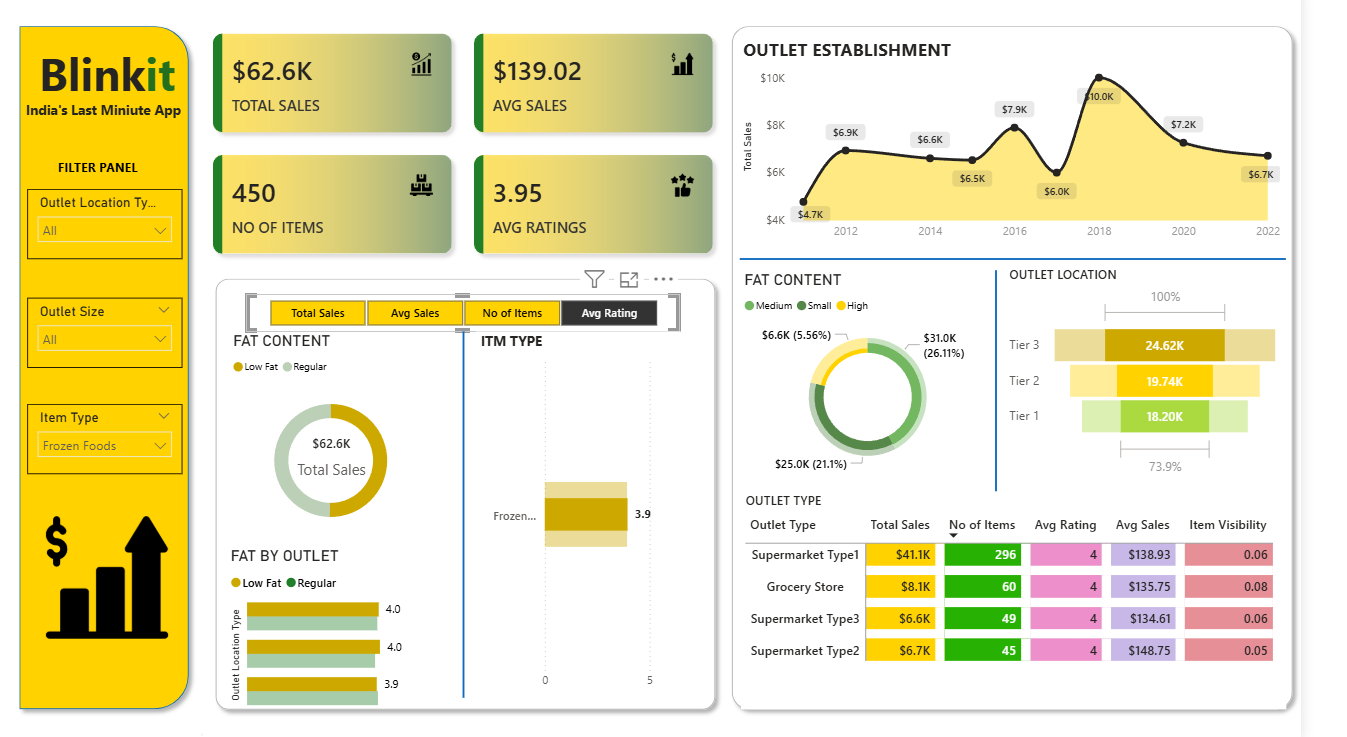

What the dashboard file says about the page in this screenshot:
{"tool":"powerbi","page":{"name":"Page 1","canvas":[1400,800],"ordinal":0},"visuals":[{"type":"shape","box":[16.5,25.5,199.6,750.4],"z":0},{"type":"textbox","box":[0,46.5,238.6,93.1],"z":1000},{"type":"textbox","box":[721.9,562.8,115.6,118.6],"z":2000},{"type":"textbox","box":[27,108.1,180.1,52.5],"z":3000},{"type":"cardVisual","fields":{"Data":["BlinkIT Grocery Data.Total Sales","BlinkIT Grocery Data.Avg Sales","BlinkIT Grocery Data.No of Items","BlinkIT Grocery Data.Avg Rating"]},"box":[216.1,25.5,570.3,270.2],"z":4000},{"type":"shape","box":[226.6,295.7,553.8,480.3],"z":5000},{"type":"donutChart","title":"FAT CONTENT","fields":{"Y":["BlinkIT Grocery Data.Avg Rating"],"Category":["BlinkIT Grocery Data.Item Fat Content"]},"box":[249.7,362.5,219.6,230.1],"z":6000},{"type":"slicer","fields":{"Values":["Matrix.Matrix"]},"box":[267.7,321.9,465,40.6],"z":7000},{"type":"cardVisual","fields":{"Data":["BlinkIT Grocery Data.Total Sales"]},"box":[303.8,442.2,111.3,108.3],"z":8000},{"type":"clusteredBarChart","title":"FAT BY OUTLET","fields":{"Y":["BlinkIT Grocery Data.Avg Rating"],"Category":["BlinkIT Grocery Data.Outlet Location Type"],"Series":["BlinkIT Grocery Data.Item Fat Content"]},"box":[246.7,592.6,245.2,177.5],"z":9000},{"type":"shape","box":[477.2,361.9,48.3,392.8],"z":11000},{"type":"barChart","title":"ITM TYPE","fields":{"Y":["BlinkIT Grocery Data.Avg Rating"],"Category":["BlinkIT Grocery Data.Item Type"]},"box":[514.4,362.5,243.7,392.6],"z":12000},{"type":"shape","box":[780.2,25.5,619.3,750.7],"z":13000},{"type":"lineChart","title":"OUTLET ESTABLISHMENT","fields":{"Category":["BlinkIT Grocery Data.Outlet Establishment Year"],"Y":["BlinkIT Grocery Data.Total Sales"]},"box":[796.3,46.9,585.8,225.2],"z":14000},{"type":"shape","box":[797.6,272.1,585.8,24.1],"z":15000},{"type":"donutChart","title":"FAT CONTENT","fields":{"Category":["BlinkIT Grocery Data.Outlet Size"],"Y":["BlinkIT Grocery Data.Total Sales"]},"box":[797.6,296.2,274.8,225.2],"z":16000},{"type":"shape","box":[1048.3,296.2,48.3,237.3],"z":17000},{"type":"funnel","title":"OUTLET LOCATION","fields":{"Category":["BlinkIT Grocery Data.Outlet Location Type"],"Y":["Sum(BlinkIT Grocery Data.Sales)"]},"box":[1081.8,290.9,300.3,230.6],"z":18000},{"type":"pivotTable","title":"OUTLET TYPE","fields":{"Rows":["BlinkIT Grocery Data.Outlet Type"],"Values":["BlinkIT Grocery Data.Total Sales","BlinkIT Grocery Data.No of Items","BlinkIT Grocery Data.Avg Rating","BlinkIT Grocery Data.Avg Sales","Avg(BlinkIT Grocery Data.Item Visibility)"]},"box":[798.9,533.5,584.5,233.2],"z":19000},{"type":"slicer","fields":{"Values":["BlinkIT Grocery Data.Outlet Location Type"]},"box":[33.5,209.1,166.2,75.1],"z":19001},{"type":"slicer","fields":{"Values":["BlinkIT Grocery Data.Outlet Size"]},"box":[33.5,325.7,166.2,75.1],"z":19002},{"type":"slicer","fields":{"Values":["BlinkIT Grocery Data.Item Type"]},"box":[33.5,439.7,166.2,75.1],"z":19003},{"type":"textbox","box":[215.8,788.2,10.7,12.1],"z":19004},{"type":"textbox","box":[41.6,171.6,135.4,34.9],"z":19005},{"type":"image","box":[44.2,550.9,150.1,150.1],"z":19006}]}

Visuals, with their boxes in screenshot pixels (x1, y1, x2, y2):
shape: <region>0, 3, 182, 709</region>
textbox: <region>0, 23, 204, 110</region>
textbox: <region>659, 509, 767, 620</region>
textbox: <region>4, 81, 174, 130</region>
cardVisual - BlinkIT Grocery Data.Total Sales x BlinkIT Grocery Data.Avg Sales: <region>182, 3, 719, 257</region>
shape: <region>192, 257, 714, 710</region>
"FAT CONTENT" donutChart: <region>214, 320, 421, 537</region>
slicer - Matrix.Matrix: <region>231, 282, 669, 320</region>
cardVisual - BlinkIT Grocery Data.Total Sales: <region>265, 395, 370, 497</region>
"FAT BY OUTLET" clusteredBarChart: <region>211, 537, 442, 704</region>
shape: <region>428, 320, 474, 689</region>
"ITM TYPE" barChart: <region>463, 320, 693, 690</region>
shape: <region>713, 3, 1297, 710</region>
"OUTLET ESTABLISHMENT" lineChart: <region>729, 23, 1280, 235</region>
shape: <region>730, 235, 1281, 258</region>
"FAT CONTENT" donutChart: <region>730, 258, 989, 470</region>
shape: <region>966, 258, 1011, 481</region>
"OUTLET LOCATION" funnel: <region>997, 253, 1280, 470</region>
"OUTLET TYPE" pivotTable: <region>731, 481, 1281, 701</region>
slicer - BlinkIT Grocery Data.Outlet Location Type: <region>10, 176, 167, 247</region>
slicer - BlinkIT Grocery Data.Outlet Size: <region>10, 286, 167, 356</region>
slicer - BlinkIT Grocery Data.Item Type: <region>10, 393, 167, 464</region>
textbox: <region>182, 721, 192, 732</region>
textbox: <region>18, 141, 146, 173</region>
image: <region>21, 498, 162, 639</region>
